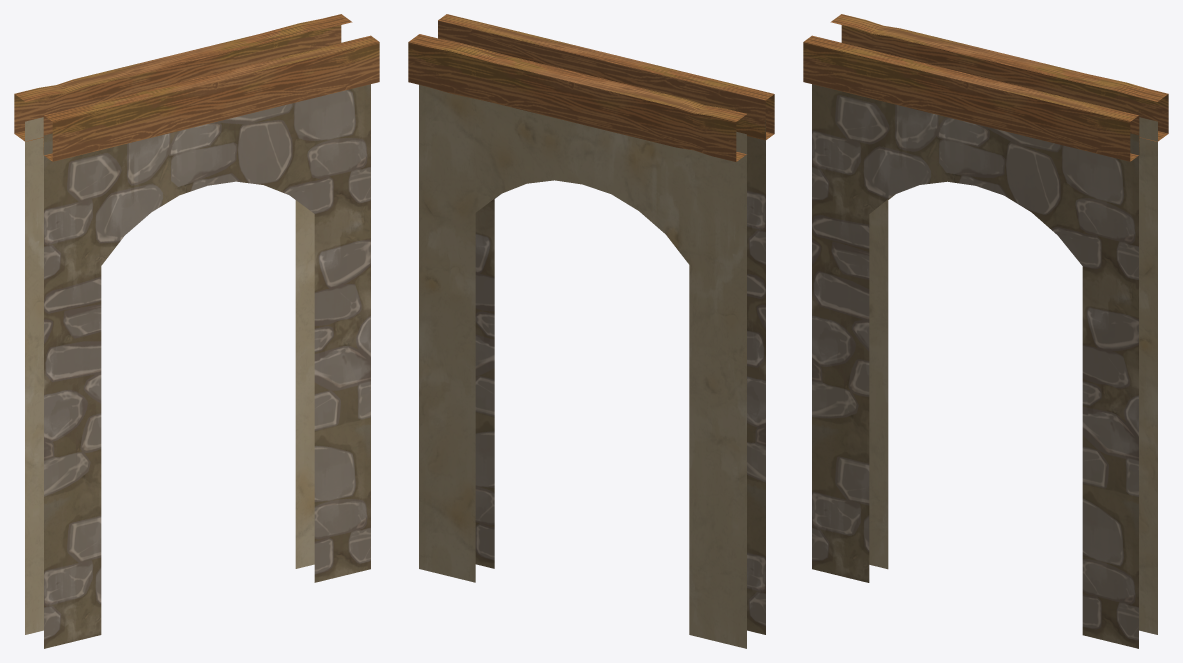
Rendered from Wall_UnevenBrick_Door_Round.gltf.
The picture shows the model from 3 angles, left to right: view 1: azimuth 30°, elevation 25°; view 2: azimuth 150°, elevation 25°; view 3: azimuth 330°, elevation 25°; orthographic projection.
Parts seen in each view (by area): view 1: Wall_UnevenBrick_Door_Round; view 2: Wall_UnevenBrick_Door_Round; view 3: Wall_UnevenBrick_Door_Round.
Boxes of the visible parts, bbox=[...] form: Wall_UnevenBrick_Door_Round: bbox=[14, 14, 379, 648]; Wall_UnevenBrick_Door_Round: bbox=[408, 14, 774, 648]; Wall_UnevenBrick_Door_Round: bbox=[803, 14, 1168, 648].
Bounding box in the file's own units: 2 × 3.12 × 0.4065.
3 materials, 3 textured.
